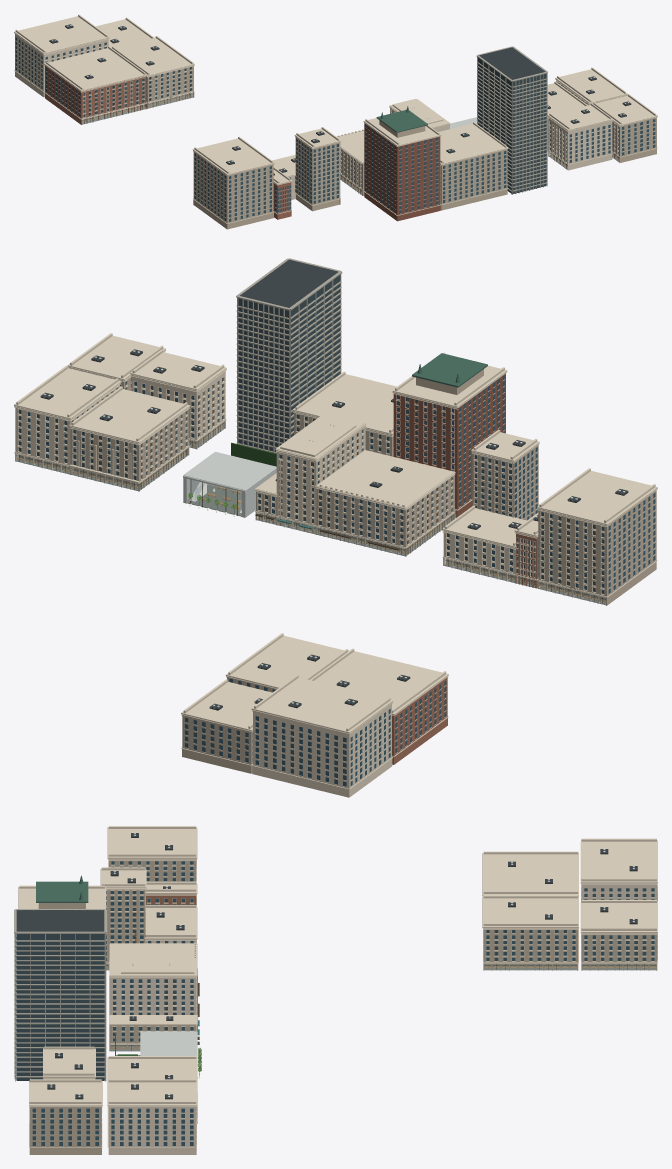
Rendered from north-square.glb.
3 renders of one model, top to bottom at view 1: azimuth 30°, elevation 25°; view 2: azimuth 150°, elevation 25°; view 3: azimuth 270°, elevation 25°, orthographic. The views are drawn at different scales.
Parts seen in each view (by area): view 1: Grand Hyatt / Hyatt precast concrete, Grand Hyatt / Hyatt smoked bronze glass, Beacon Grand / Beacon terracotta brick, Kensington Park / honed limestone, Handlery rear wing / carved warm stone, Handlery Union Square / carved warm stone, Taj Campton Place / carved warm stone, Handlery Union Square / Handlery brick, Sutter service block / honed limestone, Elkan Gunst Building / carved warm stone, Chancellor Hotel / honed limestone, Beacon Grand / deep recessed glazing (+25 smaller); view 2: Handlery rear wing / carved warm stone, Grand Hyatt / Hyatt precast concrete, Grand Hyatt / Hyatt smoked bronze glass, Kensington Park / honed limestone, Saks Fifth Avenue / carved warm stone, 278 Post corner / carved warm stone, Beacon Grand / Beacon terracotta brick, Kensington Park / carved warm stone, Tiffany & Co. / carved warm stone, Post Street east return / carved warm stone, Taj Campton Place / carved warm stone, Saks Fifth Avenue / honed limestone (+29 smaller); view 3: Grand Hyatt / Hyatt smoked bronze glass, Grand Hyatt / Hyatt precast concrete, Post Street east return / carved warm stone, Handlery rear wing / carved warm stone, Tiffany & Co. / carved warm stone, Elkan Gunst Building / carved warm stone, Handlery Union Square / carved warm stone, Powell O Farrell corner / carved warm stone, Kensington Park / carved warm stone, Campton Place east wing / honed limestone, Elkan Gunst Building / honed limestone, Campton Place east wing / carved warm stone (+23 smaller).
Boxes of the visible parts, x1,y1,x2,y2 form: Grand Hyatt / Hyatt precast concrete: (476,46,547,194); Grand Hyatt / Hyatt smoked bronze glass: (478,58,546,193); Beacon Grand / Beacon terracotta brick: (364,123,440,221); Kensington Park / honed limestone: (193,152,273,229); Handlery rear wing / carved warm stone: (14,14,109,97); Handlery Union Square / carved warm stone: (44,46,147,120); Taj Campton Place / carved warm stone: (547,103,612,170); Handlery Union Square / Handlery brick: (45,66,146,124); Sutter service block / honed limestone: (440,149,507,210); Elkan Gunst Building / carved warm stone: (112,36,194,105); Chancellor Hotel / honed limestone: (295,137,340,211); Beacon Grand / deep recessed glazing: (365,124,438,213); Handlery rear wing / carved warm stone: (251,675,393,797); Grand Hyatt / Hyatt precast concrete: (236,258,342,453); Grand Hyatt / Hyatt smoked bronze glass: (238,275,340,452); Kensington Park / honed limestone: (537,490,656,605); Saks Fifth Avenue / carved warm stone: (315,450,455,552); 278 Post corner / carved warm stone: (69,386,190,487); Beacon Grand / Beacon terracotta brick: (393,373,505,517); Kensington Park / carved warm stone: (537,468,657,601); Tiffany & Co. / carved warm stone: (275,413,366,534); Post Street east return / carved warm stone: (14,366,121,474); Taj Campton Place / carved warm stone: (130,349,226,449); Saks Fifth Avenue / honed limestone: (316,475,454,556); Grand Hyatt / Hyatt smoked bronze glass: (16,934,104,1080); Grand Hyatt / Hyatt precast concrete: (14,909,106,1081); Post Street east return / carved warm stone: (107,1079,197,1154); Handlery rear wing / carved warm stone: (580,838,657,901); Tiffany & Co. / carved warm stone: (109,957,197,1015); Elkan Gunst Building / carved warm stone: (482,895,578,967); Handlery Union Square / carved warm stone: (482,851,578,932); Powell O Farrell corner / carved warm stone: (580,900,657,967); Kensington Park / carved warm stone: (107,826,197,905); Campton Place east wing / honed limestone: (29,1107,101,1154); Elkan Gunst Building / honed limestone: (483,929,578,970); Campton Place east wing / carved warm stone: (29,1079,102,1147).
Size of the model in its own units: 347 by 94 by 368.
